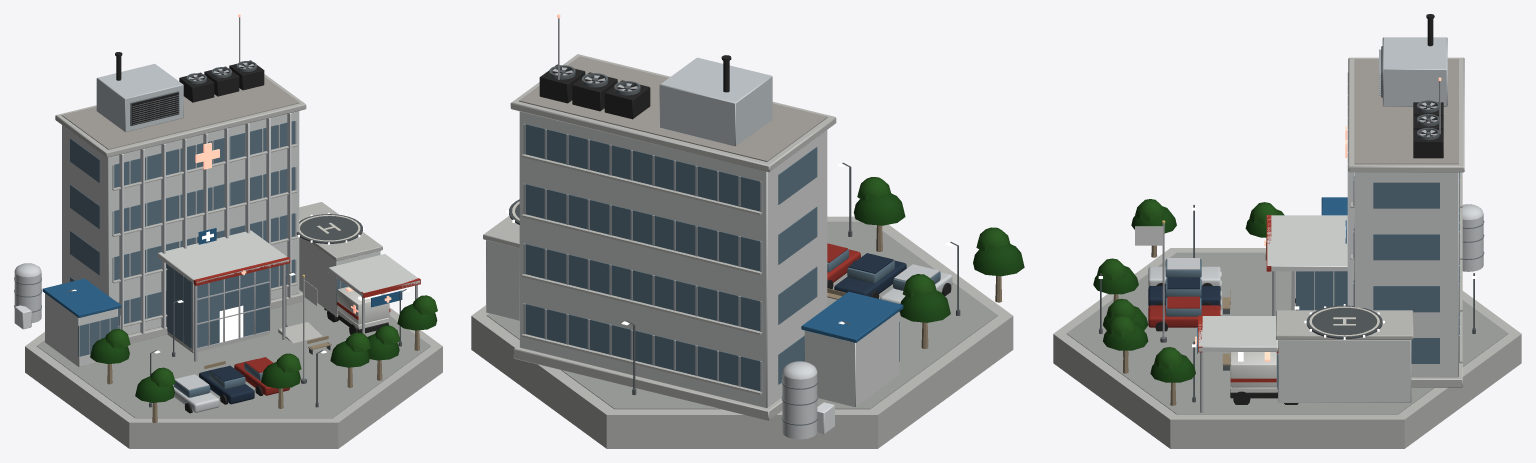
Rendered from hospital.glb.
3 views of the same model, side by side, from view 1: azimuth 30°, elevation 25°; view 2: azimuth 150°, elevation 25°; view 3: azimuth 270°, elevation 25° (orthographic). The views are drawn at different scales.
Visible parts, largest first — view 1: cladding, wall_concrete, glass, pavers, paint, leaf, gravel, dark, metal, steel_dark, wood, glow_cyan (+1 smaller); view 2: cladding, wall_concrete, glass, pavers, paint, gravel, leaf, dark, steel_dark, wood; view 3: cladding, wall_concrete, pavers, paint, glass, gravel, leaf, dark, metal, steel_dark, wood, banner.
Part boxes in pixels (bbox=[...]): cladding: bbox=[14, 63, 420, 366]; wall_concrete: bbox=[25, 74, 442, 448]; glass: bbox=[70, 121, 347, 397]; pavers: bbox=[37, 290, 430, 418]; paint: bbox=[14, 214, 420, 412]; leaf: bbox=[90, 295, 437, 402]; gravel: bbox=[61, 77, 299, 149]; dark: bbox=[115, 52, 388, 413]; metal: bbox=[132, 17, 417, 379]; steel_dark: bbox=[67, 61, 406, 407]; wood: bbox=[107, 330, 419, 422]; glow_cyan: bbox=[202, 231, 380, 342]; cladding: bbox=[486, 57, 899, 434]; wall_concrete: bbox=[471, 54, 1013, 448]; glass: bbox=[525, 124, 940, 391]; pavers: bbox=[486, 221, 997, 409]; paint: bbox=[509, 199, 952, 439]; gravel: bbox=[519, 56, 827, 161]; leaf: bbox=[853, 177, 1024, 322]; dark: bbox=[539, 55, 951, 298]; steel_dark: bbox=[549, 65, 960, 395]; wood: bbox=[827, 225, 1002, 348]; cladding: bbox=[1198, 37, 1459, 402]; wall_concrete: bbox=[1053, 57, 1521, 448]; pavers: bbox=[1066, 252, 1508, 414]; paint: bbox=[1148, 197, 1484, 392]; glass: bbox=[1165, 172, 1459, 389]; gravel: bbox=[1354, 59, 1458, 164]; leaf: bbox=[1093, 199, 1284, 382]; dark: bbox=[1155, 14, 1443, 404]; metal: bbox=[1162, 49, 1440, 412]; steel_dark: bbox=[1099, 46, 1475, 402]; wood: bbox=[1113, 238, 1266, 405]; banner: bbox=[1135, 226, 1163, 245].
Size of the model in its own units: 21.3 by 18.85 by 24.6.
